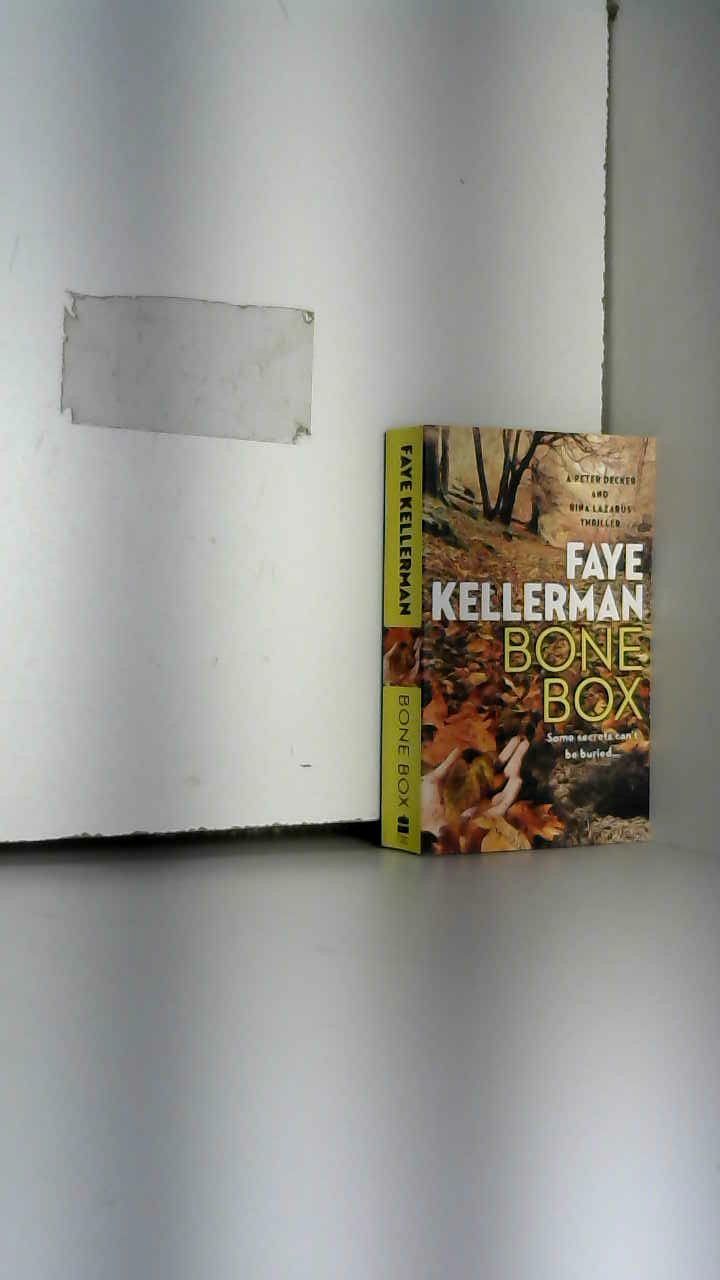book: (350, 380, 683, 895)
